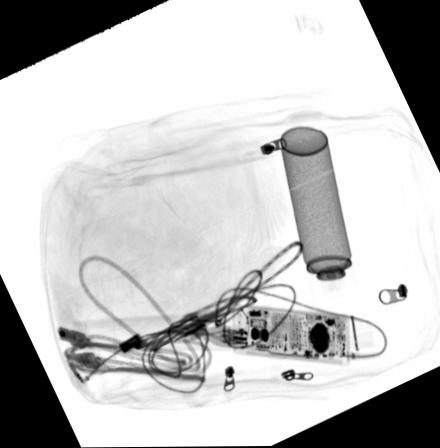Sprayer: (278, 124, 362, 311)
